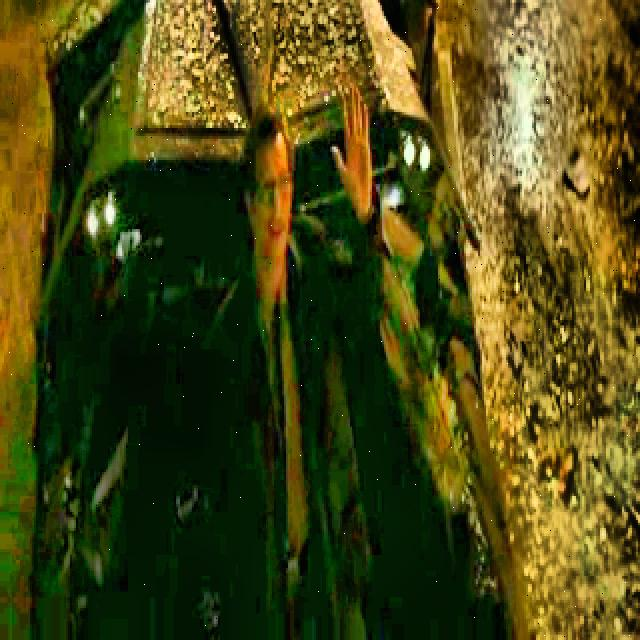L: (111, 108, 385, 640)
